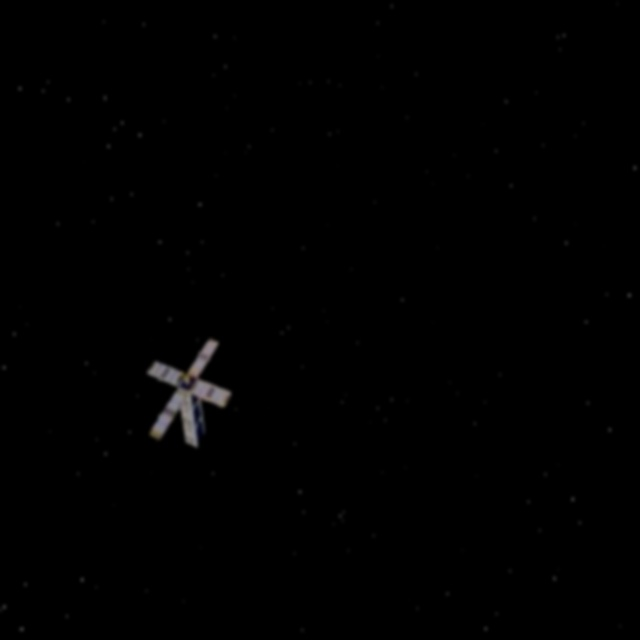medium_debris: (140, 340, 234, 456)
